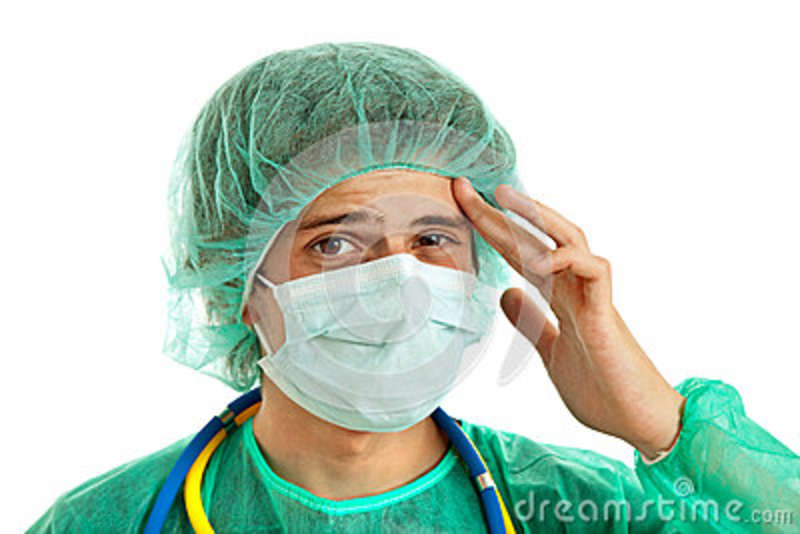mask: (274, 276, 490, 431)
